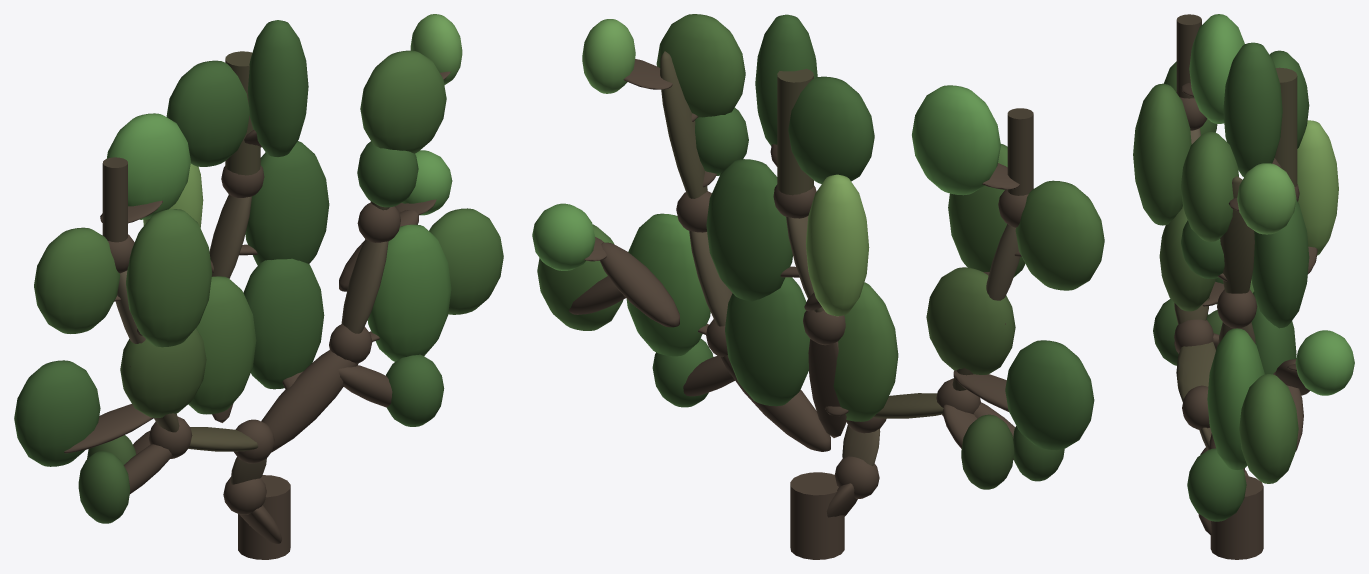
The model's file is CMU3DRMCBushg2.glb.
The picture shows the model from 3 angles, left to right: view 1: azimuth 30°, elevation 25°; view 2: azimuth 150°, elevation 25°; view 3: azimuth 270°, elevation 25°; orthographic projection. The views are drawn at different scales.
Visible parts, largest first — view 1: source broad leaf patch 6, source broad leaf patch 14, source broad leaf patch 13, source broad leaf patch 8, source broad leaf patch 5, source broad leaf patch 3, source broad leaf patch 16, source broad leaf patch 0, source broad leaf patch 2, source broad leaf patch 12, source broad leaf patch 1, source broad leaf patch 11 (+29 smaller); view 2: source broad leaf patch 8, source broad leaf patch 13, source broad leaf patch 16, source broad leaf patch 1, source broad leaf patch 5, source broad leaf patch 11, source broad leaf patch 2, source broad leaf patch 7, source broad leaf patch 14, source broad leaf patch 12, source broad leaf patch 3, root base 0 (+32 smaller); view 3: source broad leaf patch 6, source broad leaf patch 0, source broad leaf patch 15, source broad leaf patch 8, source broad leaf patch 14, source broad leaf patch 3, source broad leaf patch 7, source broad leaf patch 1, source broad leaf patch 4, source broad leaf patch 21, source broad leaf patch 10, root base 0 (+17 smaller).
Boxes of the visible parts, x1,y1,x2,y2 form: source broad leaf patch 6: [126, 209, 212, 347]; source broad leaf patch 14: [367, 224, 451, 361]; source broad leaf patch 13: [243, 258, 324, 389]; source broad leaf patch 8: [245, 141, 329, 265]; source broad leaf patch 5: [34, 227, 120, 333]; source broad leaf patch 3: [360, 50, 446, 153]; source broad leaf patch 16: [14, 360, 100, 466]; source broad leaf patch 0: [247, 20, 308, 157]; source broad leaf patch 2: [166, 60, 249, 166]; source broad leaf patch 12: [188, 276, 256, 414]; source broad leaf patch 1: [106, 113, 190, 219]; source broad leaf patch 11: [120, 328, 206, 417]; source broad leaf patch 8: [706, 159, 792, 301]; source broad leaf patch 13: [725, 277, 809, 406]; source broad leaf patch 16: [1005, 340, 1094, 450]; source broad leaf patch 1: [912, 85, 1000, 195]; source broad leaf patch 5: [1015, 180, 1104, 290]; source broad leaf patch 11: [926, 267, 1015, 374]; source broad leaf patch 2: [788, 76, 874, 183]; source broad leaf patch 7: [806, 174, 869, 316]; source broad leaf patch 14: [626, 213, 710, 356]; source broad leaf patch 12: [833, 282, 898, 421]; source broad leaf patch 3: [656, 14, 745, 117]; root base 0: [790, 472, 844, 559]; source broad leaf patch 6: [1133, 83, 1191, 225]; source broad leaf patch 0: [1223, 42, 1282, 176]; source broad leaf patch 15: [1239, 374, 1298, 483]; source broad leaf patch 8: [1251, 200, 1309, 328]; source broad leaf patch 14: [1207, 328, 1264, 469]; source broad leaf patch 3: [1181, 132, 1238, 241]; source broad leaf patch 7: [1297, 120, 1338, 255]; source broad leaf patch 1: [1189, 14, 1244, 123]; source broad leaf patch 4: [1237, 163, 1296, 234]; source broad leaf patch 21: [1187, 448, 1246, 521]; source broad leaf patch 10: [1295, 330, 1354, 395]; root base 0: [1210, 475, 1263, 559].
Size of the model in its own units: 0.553 by 0.537 by 0.209.
